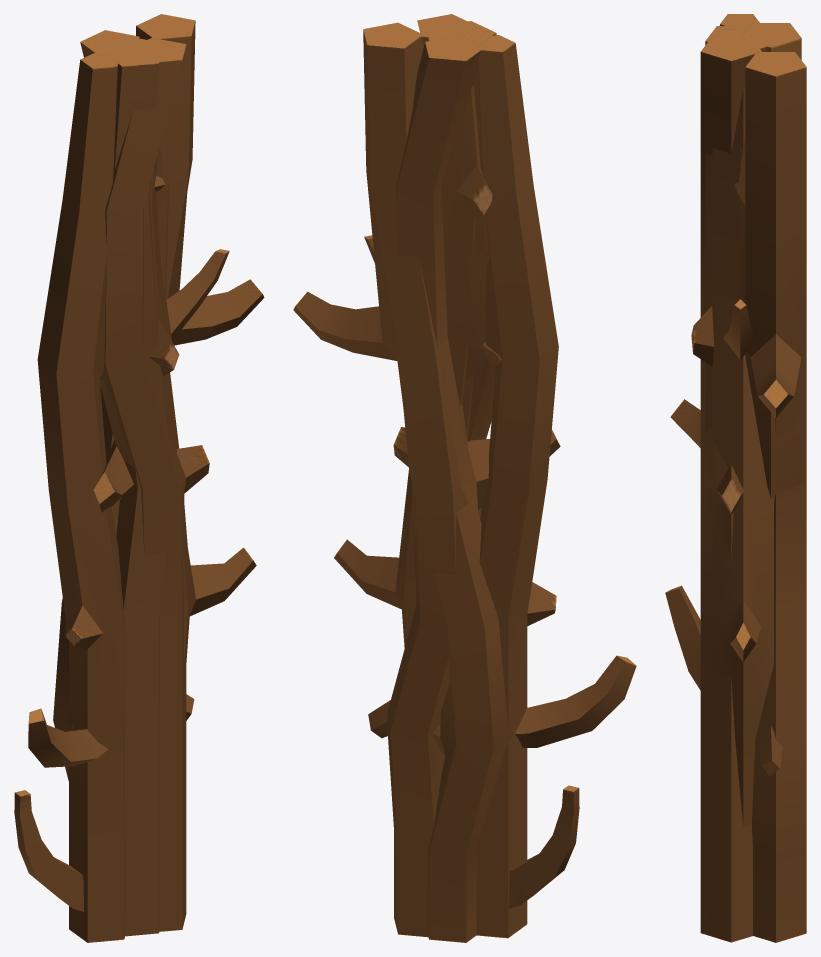
Rendered from branch.fbx.
3 views of the same model, side by side, from view 1: azimuth 30°, elevation 25°; view 2: azimuth 150°, elevation 25°; view 3: azimuth 270°, elevation 25° (orthographic).
Visible parts, largest first — view 1: branch_06.001, branch_03.001, branch_05.001, branch_04.001, branch_02.001, branch_01.001; view 2: branch_04.001, branch_06.001, branch_01.001, branch_02.001, branch_03.001, branch_05.001; view 3: branch_04.001, branch_02.001, branch_03.001, branch_01.001, branch_05.001, branch_06.001.
Boxes of the visible parts, x1,y1,x2,y2 form: branch_06.001: (37,52,229,942); branch_03.001: (100,37,209,931); branch_05.001: (104,42,169,936); branch_04.001: (28,14,264,767); branch_02.001: (14,38,256,911); branch_01.001: (53,30,194,781); branch_04.001: (293,22,636,937); branch_06.001: (364,35,558,938); branch_01.001: (368,35,560,942); branch_02.001: (334,22,579,908); branch_03.001: (393,14,501,467); branch_05.001: (438,21,496,518); branch_04.001: (665,52,806,942); branch_02.001: (691,29,773,826); branch_03.001: (700,36,761,942); branch_01.001: (670,23,801,776); branch_05.001: (705,26,766,434); branch_06.001: (719,14,759,359).
Size of the model in its own units: 145 by 419 by 61.01.
2 materials, 2 textured.
